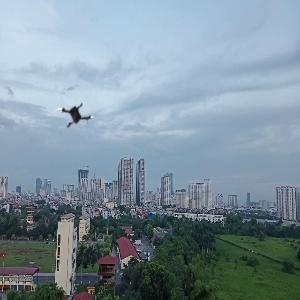drone: (54, 95, 99, 140)
